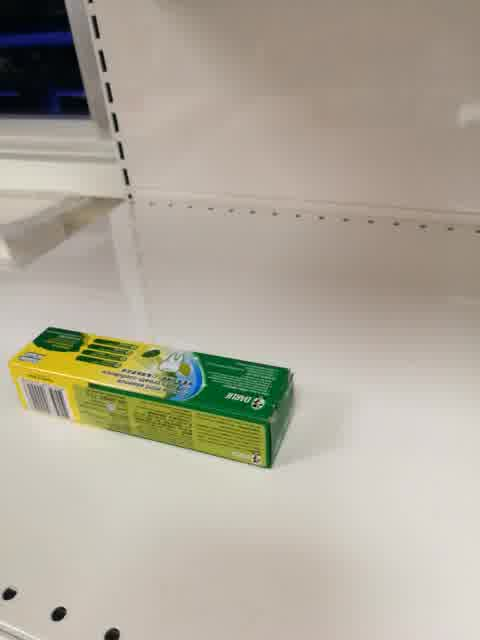toothpaste: (8, 324, 295, 477)
